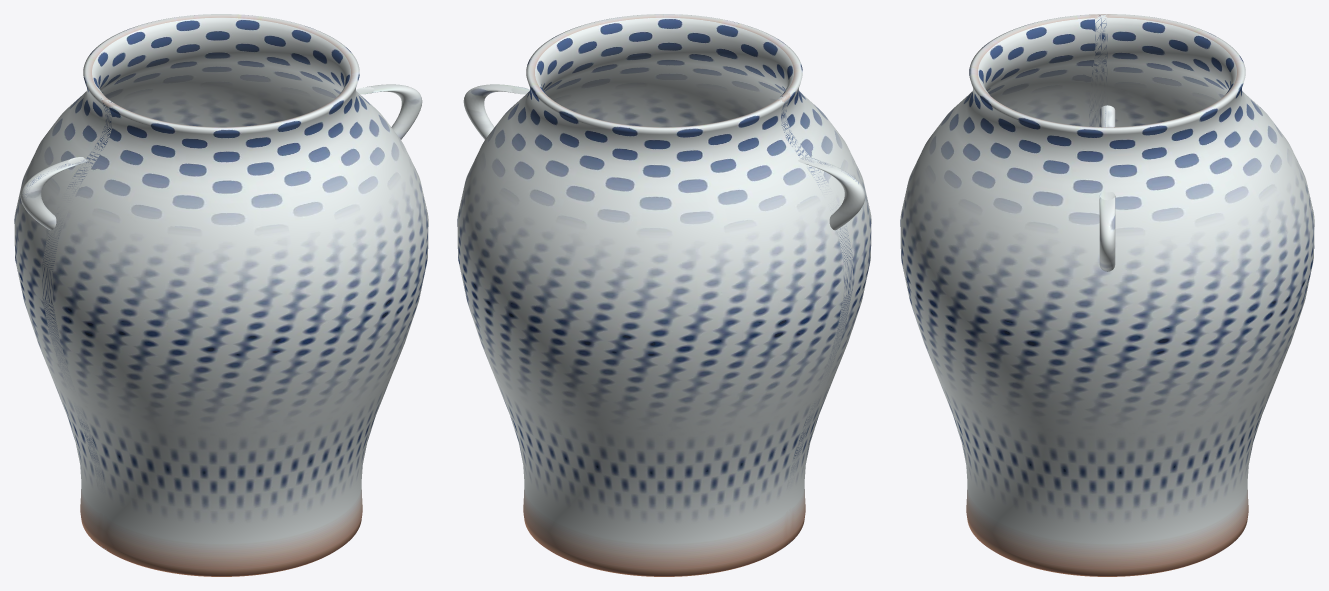
File: YuanQingHua_DragonVase_Master.glb
The picture shows the model from 3 angles, left to right: view 1: azimuth 30°, elevation 25°; view 2: azimuth 150°, elevation 25°; view 3: azimuth 270°, elevation 25°; orthographic projection.
Parts seen in each view (by area): view 1: YuanQingHua_DragonVase_Ultra; view 2: YuanQingHua_DragonVase_Ultra; view 3: YuanQingHua_DragonVase_Ultra.
Part boxes in pixels (x1,y1,x2,y2): YuanQingHua_DragonVase_Ultra: [14, 14, 428, 576]; YuanQingHua_DragonVase_Ultra: [457, 14, 871, 576]; YuanQingHua_DragonVase_Ultra: [900, 14, 1314, 576].
Size of the model in its own units: 0.2658 by 0.2843 by 0.2382.
1 material, 1 textured.
